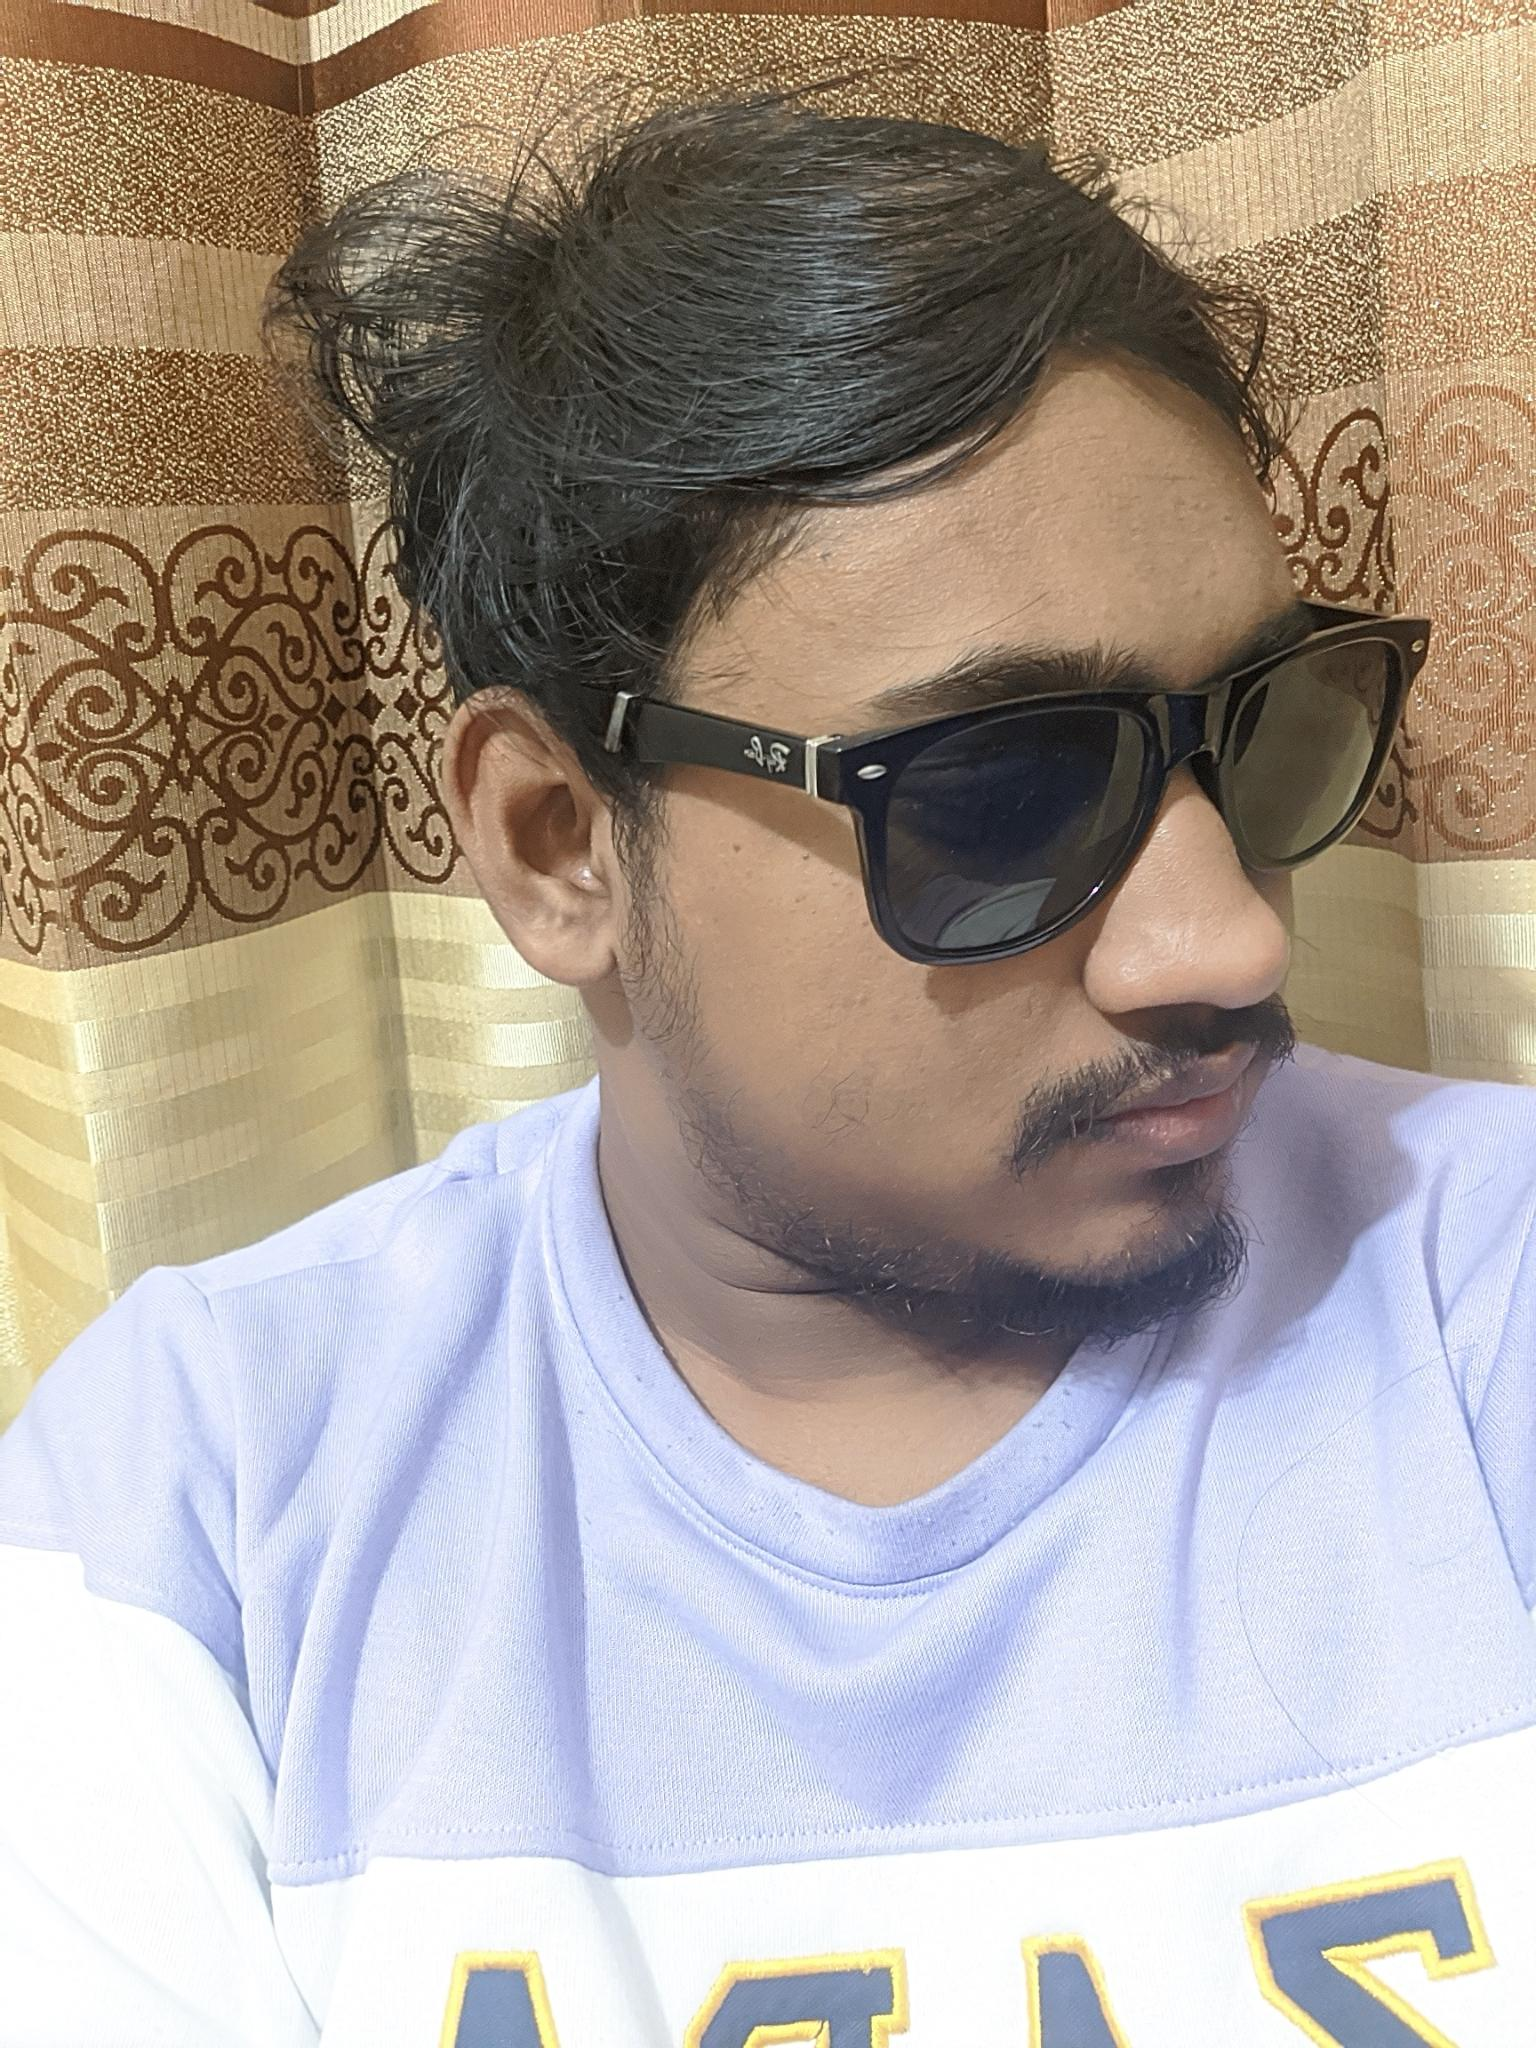Neutral: (766, 539, 1404, 1343)
